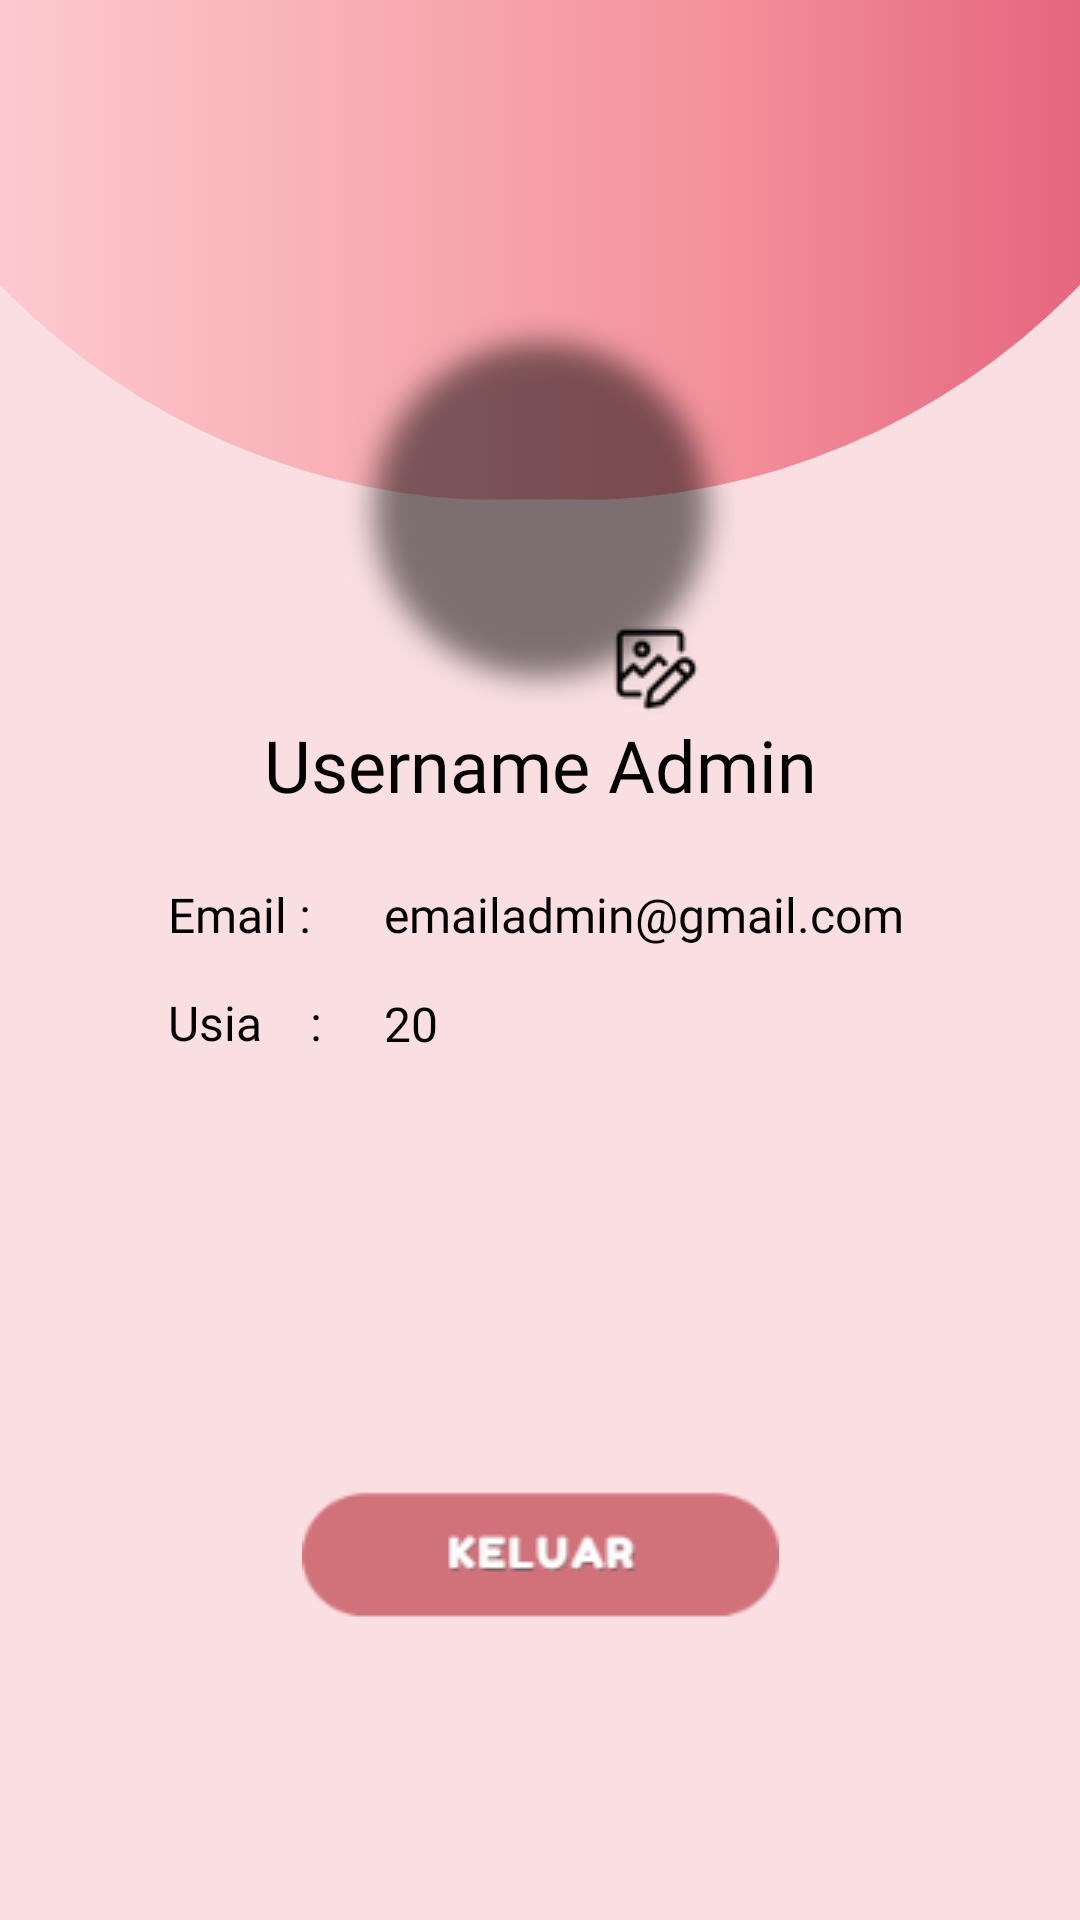

Locate icon controls on the screen. Image size 1080 × 1920, boxes as {"x1": x1, "y1": y1, "x2": x2, "y2": y2}.
edit: {"x1": 611, "y1": 624, "x2": 697, "y2": 710}
